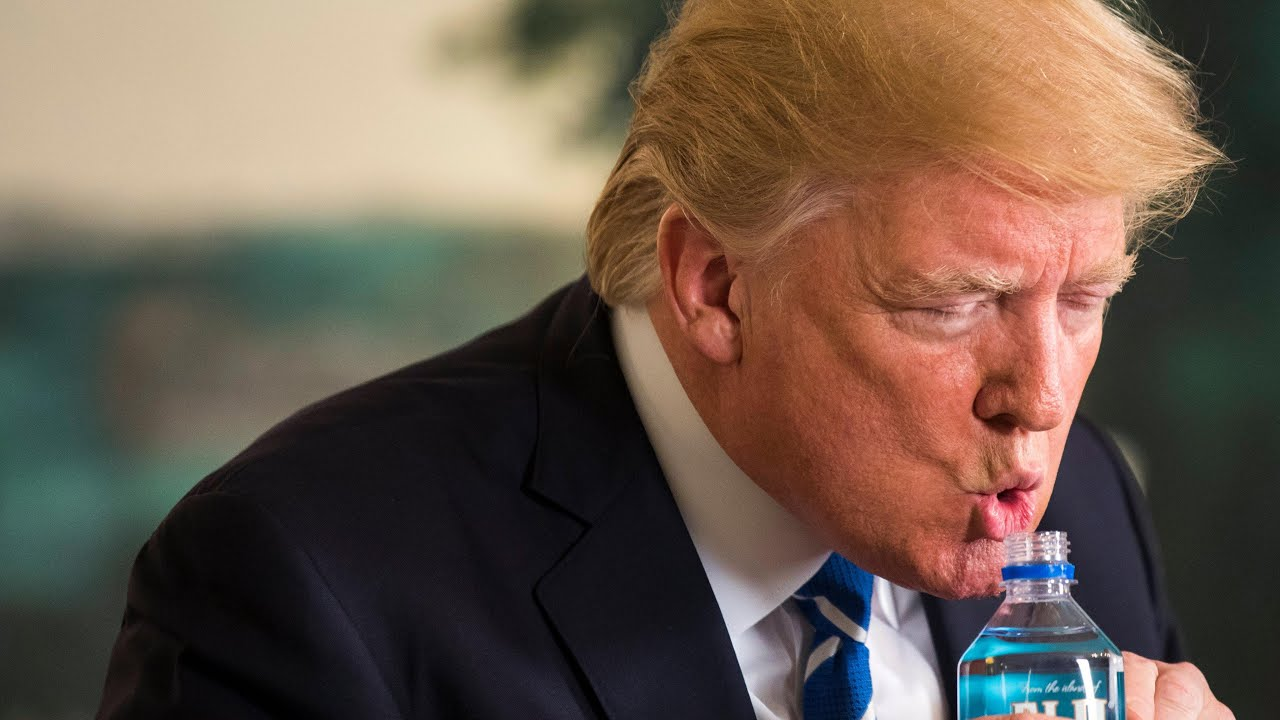drinking: (559, 8, 1220, 638)
